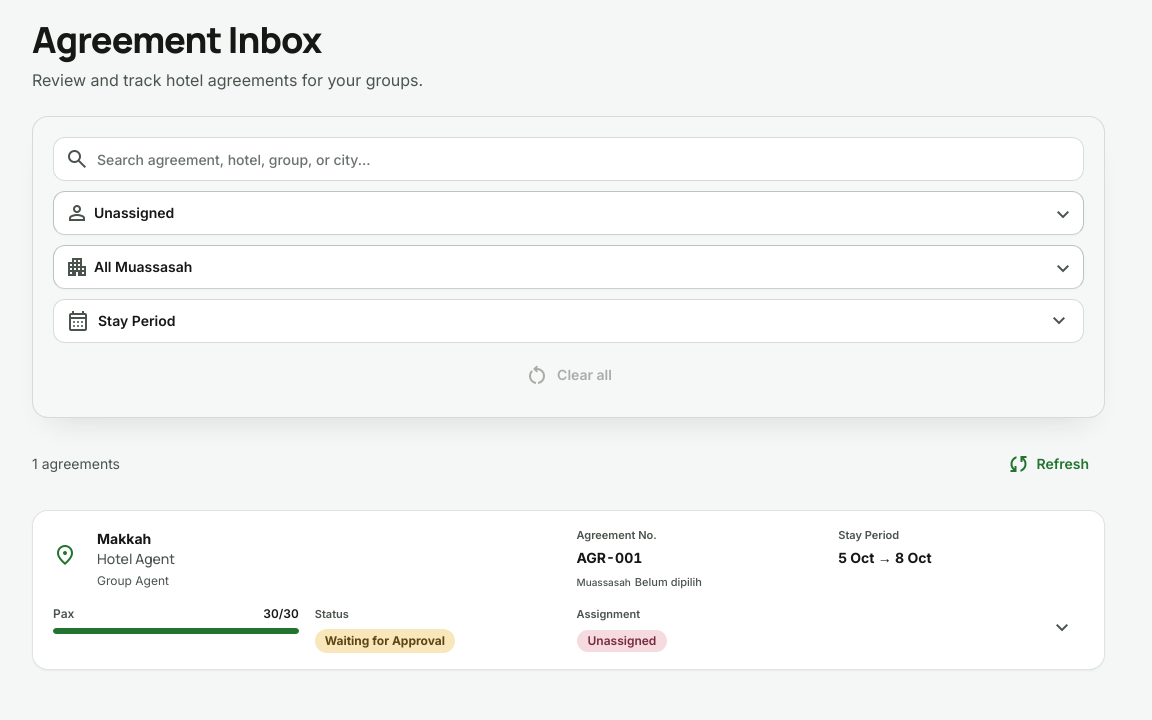
Agent Agreement Inbox › searches cities across assignment states and resets to the Admin default
expect the heading "Hotel Agent" is shown: met, box [97,548,175,568]
Type "madinah" into the search field named "Search agreement drafts". click: (588, 159)
box: [97,137,1080,181]
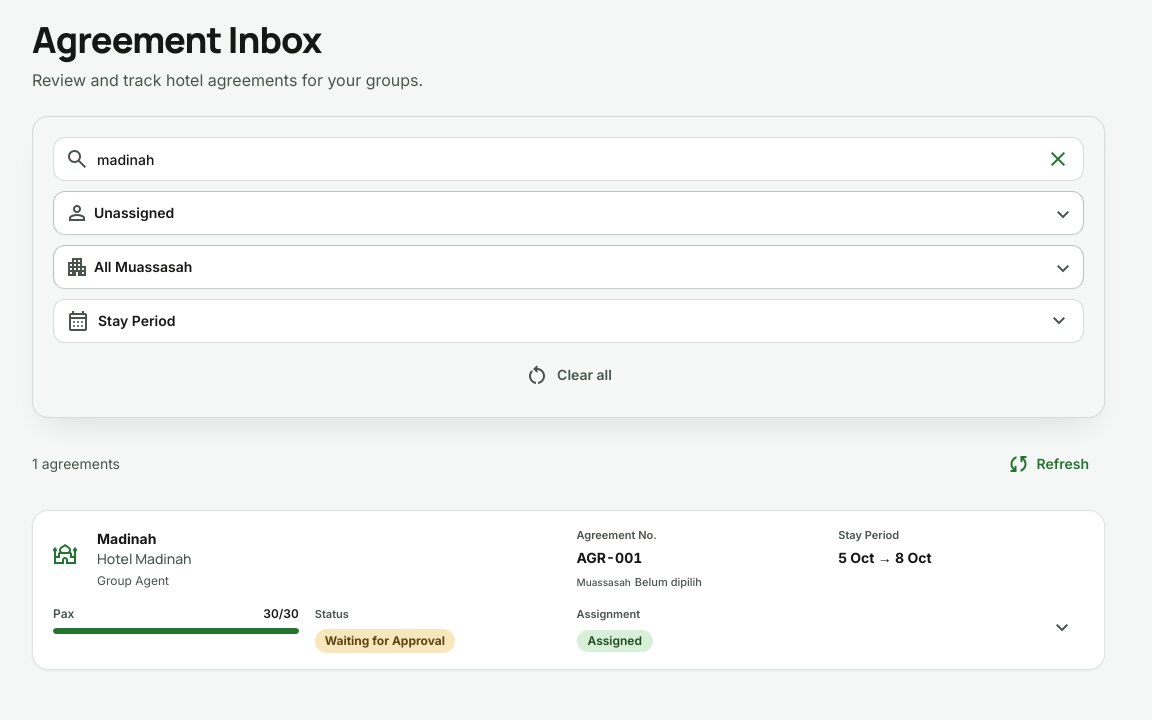
expect the heading "Hotel Madinah" is shown: met, box [97,548,192,568]
expect the heading "Hotel Agent" is gone: met
Click the button "Clear all". click: (568, 375)
box: [53,353,1084,397]
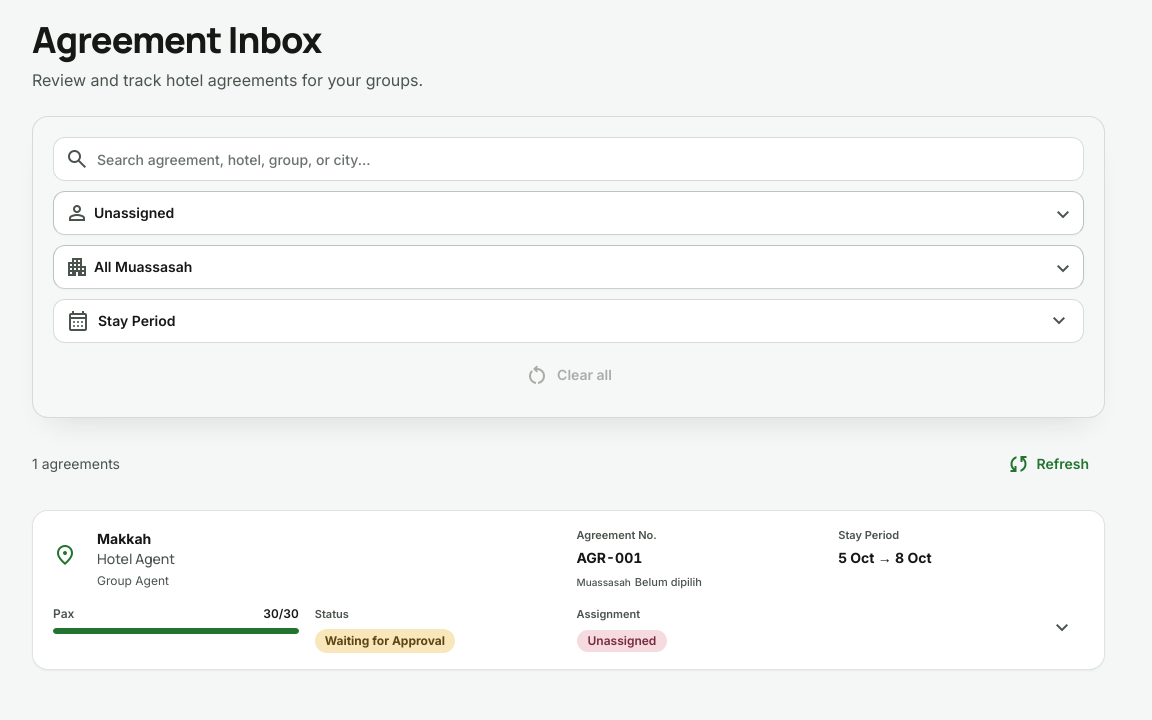
expect the button with aria-label "Filter agreement assignment status" reads "Unassigned": met, box [53,191,1084,235]
expect the heading "Hotel Agent" is shown: met, box [97,548,175,568]
expect the heading "Hotel Madinah" is gone: met
